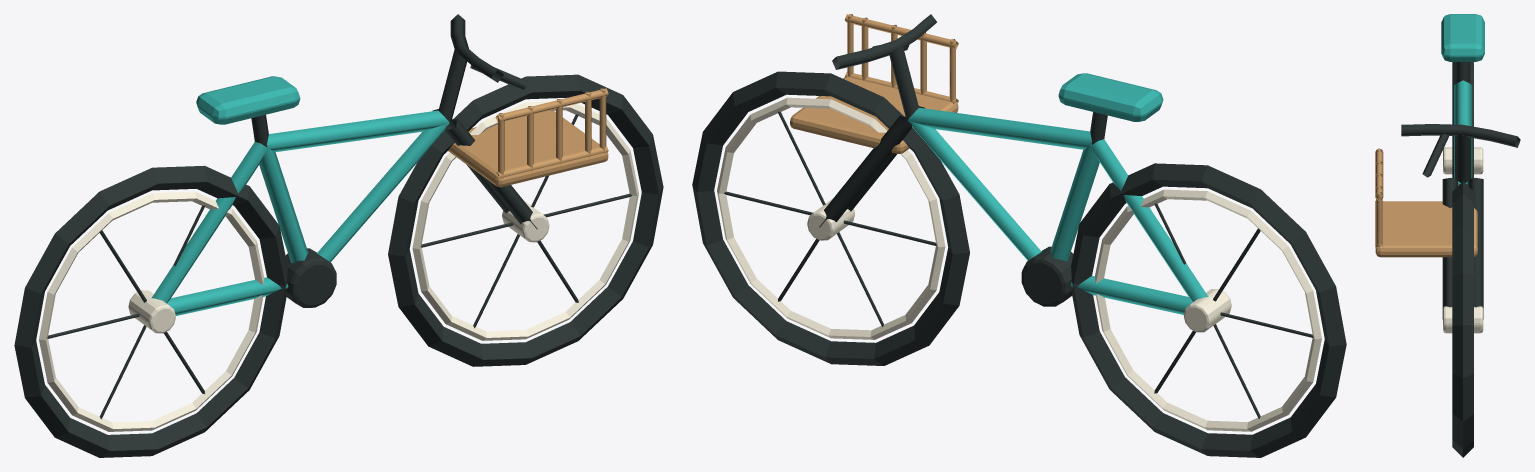
Rendered from bicycle-v2.glb.
3 renders of one model, left to right at view 1: azimuth 30°, elevation 25°; view 2: azimuth 150°, elevation 25°; view 3: azimuth 270°, elevation 25°, orthographic. The views are drawn at different scales.
Parts seen in each view (by area): view 1: KAMPUNG BICYCLE ASSEMBLY · Ink, KAMPUNG BICYCLE ASSEMBLY · Weathered teal, KAMPUNG BICYCLE ASSEMBLY · Chalk, KAMPUNG BICYCLE ASSEMBLY · Sun timber; view 2: KAMPUNG BICYCLE ASSEMBLY · Ink, KAMPUNG BICYCLE ASSEMBLY · Weathered teal, KAMPUNG BICYCLE ASSEMBLY · Chalk, KAMPUNG BICYCLE ASSEMBLY · Sun timber; view 3: KAMPUNG BICYCLE ASSEMBLY · Ink, KAMPUNG BICYCLE ASSEMBLY · Sun timber, KAMPUNG BICYCLE ASSEMBLY · Weathered teal, KAMPUNG BICYCLE ASSEMBLY · Chalk.
Boxes of the visible parts, x1=… form: KAMPUNG BICYCLE ASSEMBLY · Ink: x1=14, y1=14, x2=663, y2=457; KAMPUNG BICYCLE ASSEMBLY · Weathered teal: x1=151, y1=76, x2=449, y2=315; KAMPUNG BICYCLE ASSEMBLY · Chalk: x1=39, y1=101, x2=638, y2=431; KAMPUNG BICYCLE ASSEMBLY · Sun timber: x1=448, y1=88, x2=608, y2=187; KAMPUNG BICYCLE ASSEMBLY · Ink: x1=692, y1=14, x2=1346, y2=457; KAMPUNG BICYCLE ASSEMBLY · Weathered teal: x1=908, y1=73, x2=1208, y2=314; KAMPUNG BICYCLE ASSEMBLY · Chalk: x1=717, y1=97, x2=1321, y2=431; KAMPUNG BICYCLE ASSEMBLY · Sun timber: x1=790, y1=14, x2=958, y2=153; KAMPUNG BICYCLE ASSEMBLY · Ink: x1=1401, y1=62, x2=1520, y2=457; KAMPUNG BICYCLE ASSEMBLY · Sun timber: x1=1375, y1=148, x2=1477, y2=257; KAMPUNG BICYCLE ASSEMBLY · Weathered teal: x1=1441, y1=14, x2=1484, y2=185; KAMPUNG BICYCLE ASSEMBLY · Chalk: x1=1443, y1=147, x2=1483, y2=333.
Size of the model in its own units: 3.58 by 1.8 by 0.7976.
